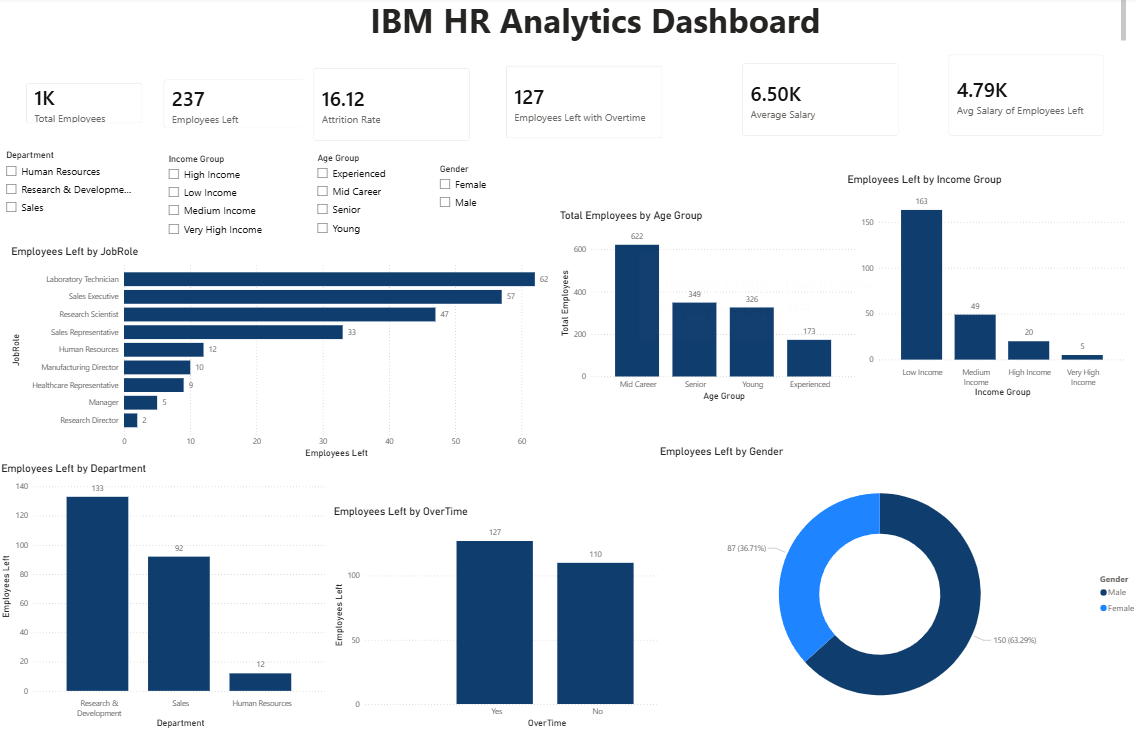

This screenshot's page, from the dashboard's own definition file:
{"tool":"powerbi","page":{"name":"Page 1","canvas":[1900,1300],"ordinal":0},"visuals":[{"type":"cardVisual","fields":{"Data":["WA_Fn-UseC_-HR-Employee-Attriti.Total Employees"]},"box":[28,126,220,98],"z":0},{"type":"cardVisual","fields":{"Data":["WA_Fn-UseC_-HR-Employee-Attriti.Employees Left"]},"box":[248,120,284,112],"z":1000},{"type":"cardVisual","fields":{"Data":["WA_Fn-UseC_-HR-Employee-Attriti.Attrition Rate"]},"box":[488,102,284,150],"z":2000},{"type":"cardVisual","fields":{"Data":["WA_Fn-UseC_-HR-Employee-Attriti.Employees Left with Overtime"]},"box":[796,98,284,150],"z":3000},{"type":"cardVisual","fields":{"Data":["WA_Fn-UseC_-HR-Employee-Attriti.Average Salary"]},"box":[1174,94,284,150],"z":4000},{"type":"clusteredColumnChart","fields":{"Category":["WA_Fn-UseC_-HR-Employee-Attriti.Department"],"Y":["WA_Fn-UseC_-HR-Employee-Attriti.Employees Left"]},"box":[0,748,532,432],"z":4001},{"type":"cardVisual","fields":{"Data":["WA_Fn-UseC_-HR-Employee-Attriti.Avg Salary of Employees Left"]},"box":[1504,80,282,164],"z":4002},{"type":"clusteredColumnChart","fields":{"Y":["WA_Fn-UseC_-HR-Employee-Attriti.Employees Left"],"Category":["WA_Fn-UseC_-HR-Employee-Attriti.OverTime"]},"box":[532,818,642,362],"z":4003},{"type":"donutChart","fields":{"Y":["WA_Fn-UseC_-HR-Employee-Attriti.Employees Left"],"Category":["WA_Fn-UseC_-HR-Employee-Attriti.Gender"]},"box":[1054,722,780,458],"z":4004},{"type":"clusteredBarChart","fields":{"Y":["WA_Fn-UseC_-HR-Employee-Attriti.Employees Left"],"Category":["WA_Fn-UseC_-HR-Employee-Attriti.JobRole"]},"box":[16,402,878,346],"z":4005},{"type":"clusteredColumnChart","fields":{"Category":["WA_Fn-UseC_-HR-Employee-Attriti.Income Group"],"Y":["WA_Fn-UseC_-HR-Employee-Attriti.Employees Left"]},"box":[1354,286,456,364],"z":4006},{"type":"clusteredColumnChart","fields":{"Category":["WA_Fn-UseC_-HR-Employee-Attriti.Age Group"],"Y":["WA_Fn-UseC_-HR-Employee-Attriti.Total Employees"]},"box":[894,344,484,312],"z":4007},{"type":"slicer","fields":{"Values":["WA_Fn-UseC_-HR-Employee-Attriti.Department"]},"box":[0,244,220,158],"z":4008},{"type":"slicer","fields":{"Values":["WA_Fn-UseC_-HR-Employee-Attriti.Gender"]},"box":[694,266,156,116],"z":4009},{"type":"slicer","fields":{"Values":["WA_Fn-UseC_-HR-Employee-Attriti.Age Group"]},"box":[498,248,156,150],"z":4010},{"type":"slicer","fields":{"Values":["WA_Fn-UseC_-HR-Employee-Attriti.Income Group"]},"box":[260,250,180,150],"z":4011},{"type":"textbox","box":[108,0,1702,80],"z":4012}]}

Visuals, with their boxes on the page's 1900x1300 design canvas (x1, y1, x2, y2). These are canvas units, not pixel positions in the 1136x729 screenshot, which may show the page scaled, cropped or inside an application window:
cardVisual - WA_Fn-UseC_-HR-Employee-Attriti.Total Employees: [28, 126, 248, 224]
cardVisual - WA_Fn-UseC_-HR-Employee-Attriti.Employees Left: [248, 120, 532, 232]
cardVisual - WA_Fn-UseC_-HR-Employee-Attriti.Attrition Rate: [488, 102, 772, 252]
cardVisual - WA_Fn-UseC_-HR-Employee-Attriti.Employees Left with Overtime: [796, 98, 1080, 248]
cardVisual - WA_Fn-UseC_-HR-Employee-Attriti.Average Salary: [1174, 94, 1458, 244]
clusteredColumnChart - WA_Fn-UseC_-HR-Employee-Attriti.Department x WA_Fn-UseC_-HR-Employee-Attriti.Employees Left: [0, 748, 532, 1180]
cardVisual - WA_Fn-UseC_-HR-Employee-Attriti.Avg Salary of Employees Left: [1504, 80, 1786, 244]
clusteredColumnChart - WA_Fn-UseC_-HR-Employee-Attriti.Employees Left x WA_Fn-UseC_-HR-Employee-Attriti.OverTime: [532, 818, 1174, 1180]
donutChart - WA_Fn-UseC_-HR-Employee-Attriti.Employees Left x WA_Fn-UseC_-HR-Employee-Attriti.Gender: [1054, 722, 1834, 1180]
clusteredBarChart - WA_Fn-UseC_-HR-Employee-Attriti.Employees Left x WA_Fn-UseC_-HR-Employee-Attriti.JobRole: [16, 402, 894, 748]
clusteredColumnChart - WA_Fn-UseC_-HR-Employee-Attriti.Income Group x WA_Fn-UseC_-HR-Employee-Attriti.Employees Left: [1354, 286, 1810, 650]
clusteredColumnChart - WA_Fn-UseC_-HR-Employee-Attriti.Age Group x WA_Fn-UseC_-HR-Employee-Attriti.Total Employees: [894, 344, 1378, 656]
slicer - WA_Fn-UseC_-HR-Employee-Attriti.Department: [0, 244, 220, 402]
slicer - WA_Fn-UseC_-HR-Employee-Attriti.Gender: [694, 266, 850, 382]
slicer - WA_Fn-UseC_-HR-Employee-Attriti.Age Group: [498, 248, 654, 398]
slicer - WA_Fn-UseC_-HR-Employee-Attriti.Income Group: [260, 250, 440, 400]
textbox: [108, 0, 1810, 80]
